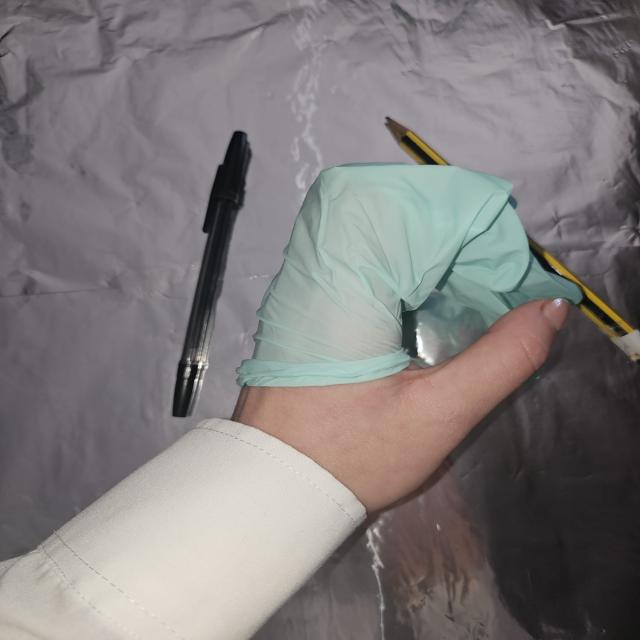glove_partial: (239, 162, 584, 508)
